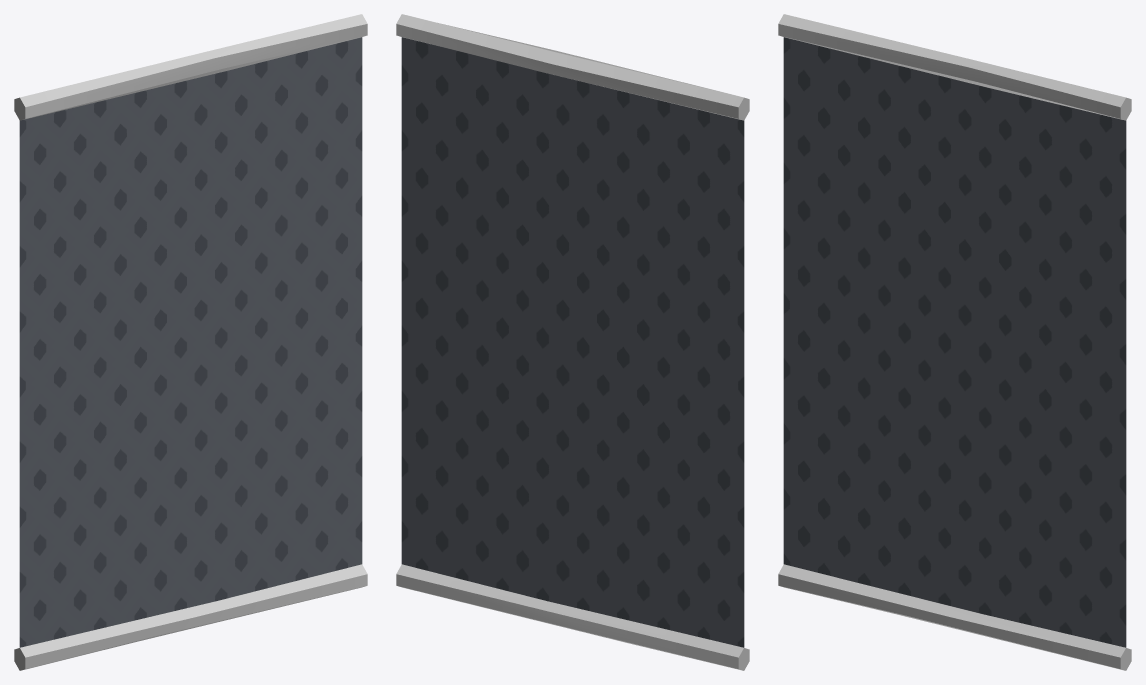
File: SM_Bld_Fence_Half_01.fbx
3 views of the same model, side by side, from view 1: azimuth 30°, elevation 25°; view 2: azimuth 150°, elevation 25°; view 3: azimuth 330°, elevation 25° (orthographic).
Visible parts, largest first — view 1: SM_Bld_Fence_Half_01; view 2: SM_Bld_Fence_Half_01; view 3: SM_Bld_Fence_Half_01.
Boxes of the visible parts, box(x1,y1,x2,y2) form: SM_Bld_Fence_Half_01: box(14, 14, 367, 670); SM_Bld_Fence_Half_01: box(396, 14, 749, 670); SM_Bld_Fence_Half_01: box(778, 14, 1131, 670).
Size of the model in its own units: 125 by 200 by 7.24.
